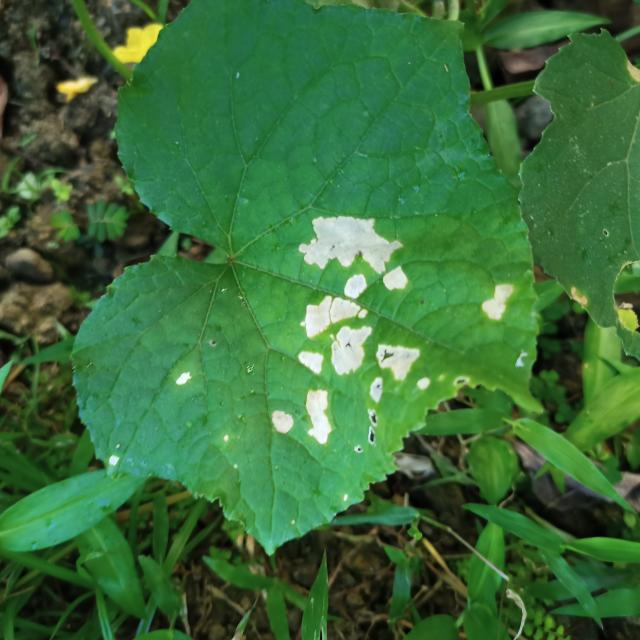disease_cucumber: (261, 209, 420, 451), (478, 278, 522, 337), (170, 365, 192, 399)
